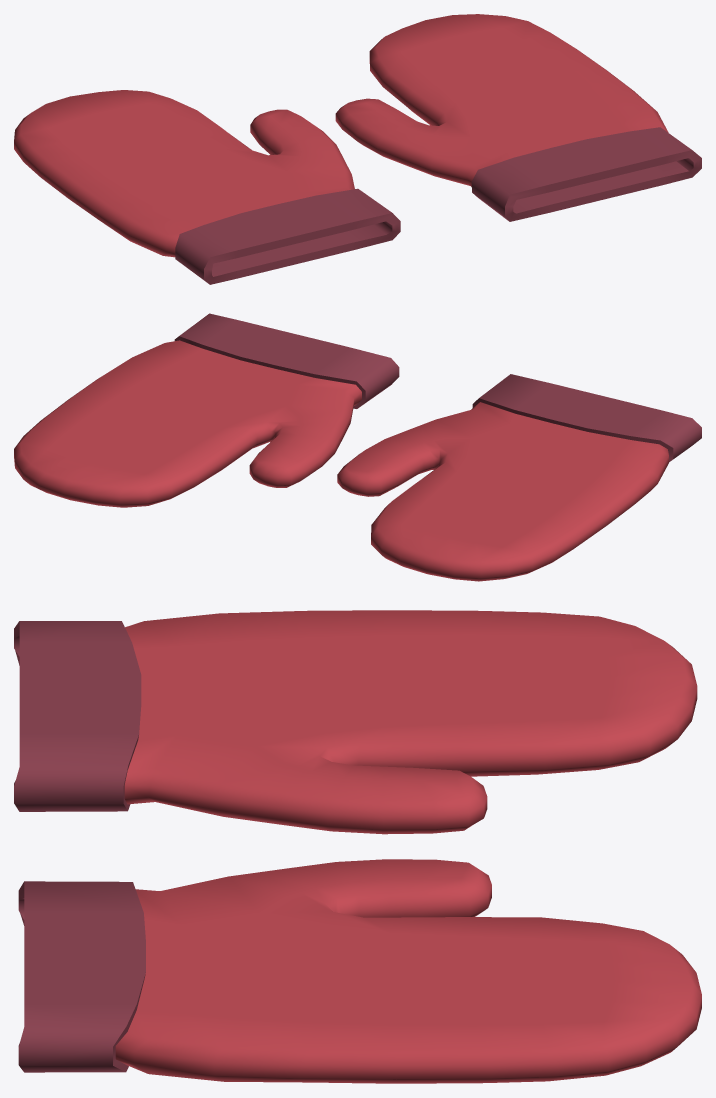
File: oven mitt.fbx
3 renders of one model, top to bottom at view 1: azimuth 30°, elevation 25°; view 2: azimuth 150°, elevation 25°; view 3: azimuth 270°, elevation 25°, orthographic. The views are drawn at different scales.
Visible parts, largest first — view 1: Mitten.001, Mitten; view 2: Mitten, Mitten.001; view 3: Mitten.001, Mitten.
Part boxes in pixels (bbox=[...]): Mitten.001: bbox=[335, 14, 701, 221]; Mitten: bbox=[14, 90, 400, 284]; Mitten: bbox=[337, 374, 701, 581]; Mitten.001: bbox=[14, 313, 399, 507]; Mitten.001: bbox=[18, 859, 701, 1083]; Mitten: bbox=[14, 610, 697, 834].
Size of the model in its own units: 94.68 by 6.72 by 63.77.
